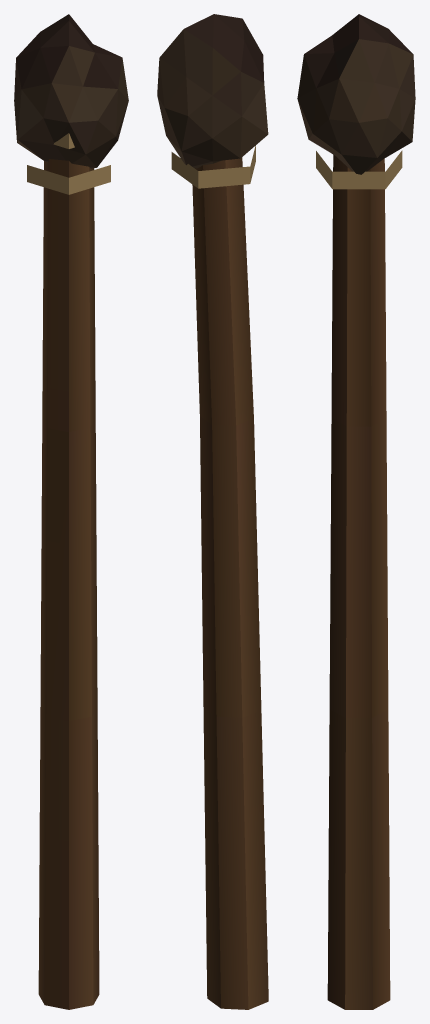
The model's file is torch.glb.
3 views of the same model, side by side, from view 1: azimuth 90°, elevation 25°; view 2: azimuth 210°, elevation 25°; view 3: azimuth 270°, elevation 25° (orthographic). The views are drawn at different scales.
Visible parts, largest first — view 1: torch_solid; view 2: torch_solid; view 3: torch_solid.
Part boxes in pixels (left/top/right/bottom): torch_solid: left=14, top=14, right=128, bottom=1009; torch_solid: left=157, top=14, right=268, bottom=1009; torch_solid: left=297, top=14, right=415, bottom=1009.
Size of the model in its own units: 0.1827 by 1.69 by 0.1823.
